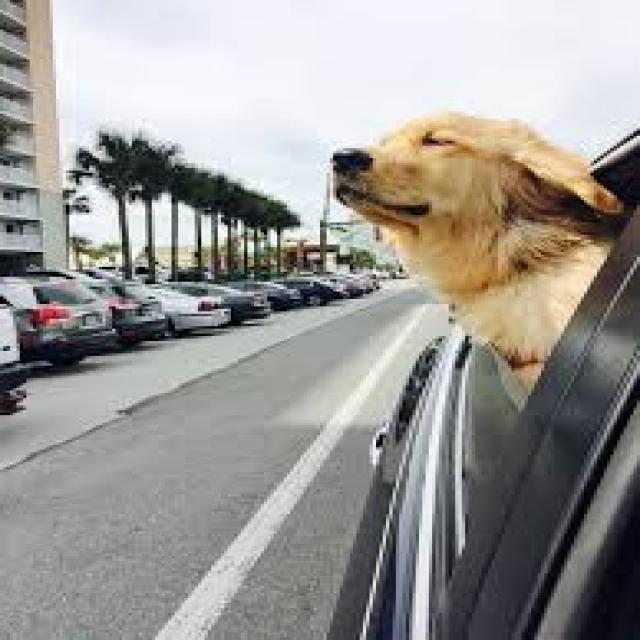car: (2, 278, 118, 378), (147, 280, 236, 350)
dog: (324, 100, 640, 391)
